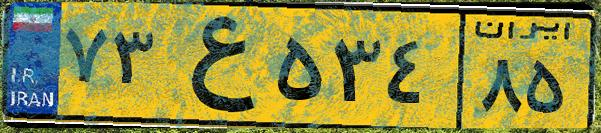3: (330, 28, 385, 110), (110, 28, 158, 98)
4: (385, 28, 445, 110)
5: (270, 28, 330, 110), (525, 38, 570, 115)
7: (57, 26, 110, 100)
8: (475, 38, 525, 113)
ع: (158, 12, 270, 120)
